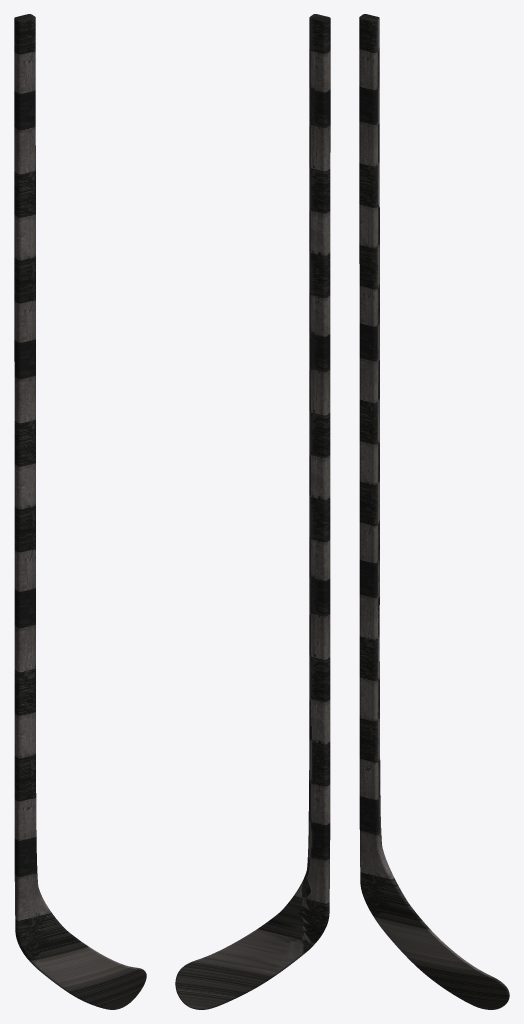
The model's file is P90M-LIE7_5-ST.glb.
The picture shows the model from 3 angles, left to right: view 1: azimuth 30°, elevation 25°; view 2: azimuth 150°, elevation 25°; view 3: azimuth 330°, elevation 25°; orthographic projection. The views are drawn at different scales.
Visible parts, largest first — view 1: geometry_0; view 2: geometry_0; view 3: geometry_0.
Part boxes in pixels (x1=…): geometry_0: x1=14, y1=14, x2=146, y2=1009; geometry_0: x1=175, y1=14, x2=330, y2=1009; geometry_0: x1=359, y1=14, x2=509, y2=1009.
Size of the model in its own units: 240 by 1650 by 56.48.
Materials: 1 (1 with a texture image).
